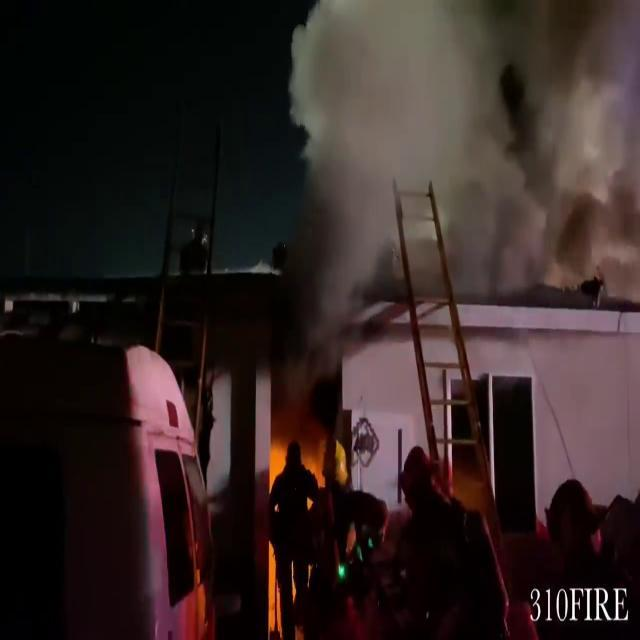Smoke: (276, 0, 640, 306)
